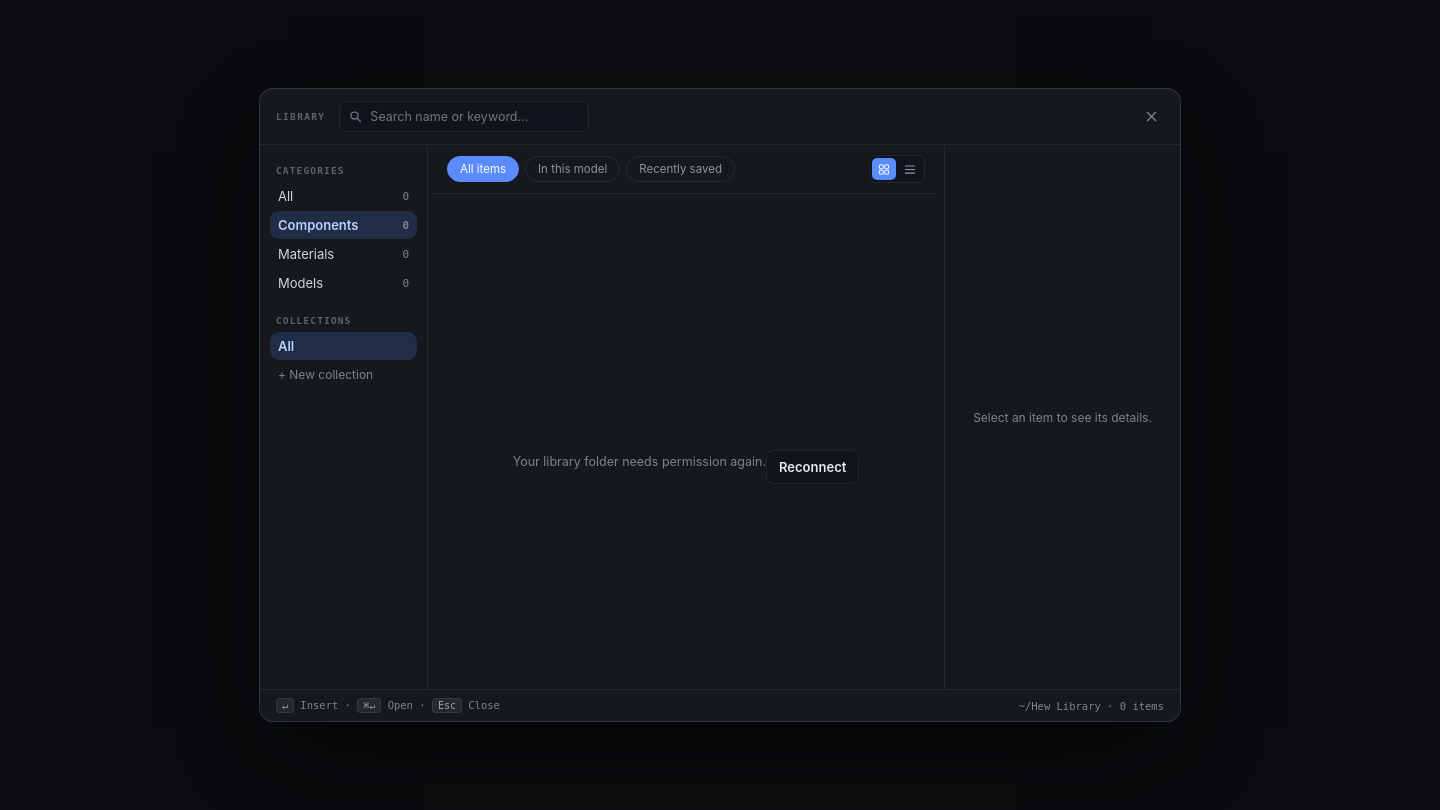
it: LibraryDialog › a denied Reconnect explains itself instead of silently no-oping
Expected: the text "Your library folder needs permission again." is shown, [513, 454, 766, 469]
Click the button "Reconnect" at (813, 466), box [766, 450, 859, 484]
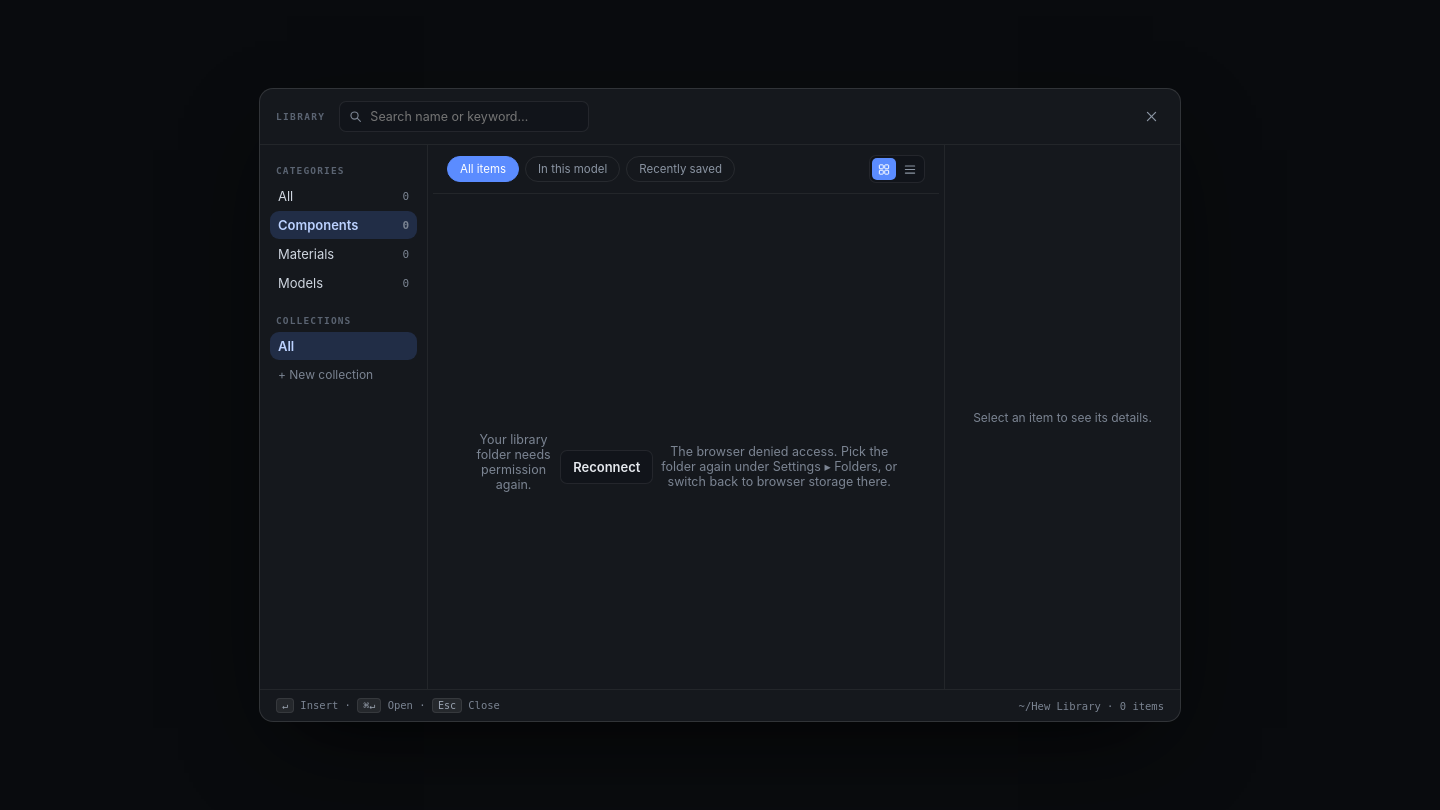
Expected: the button "Reconnect" is shown, [560, 450, 653, 484]
Expected: the text "denied access" is shown, [661, 444, 897, 489]
